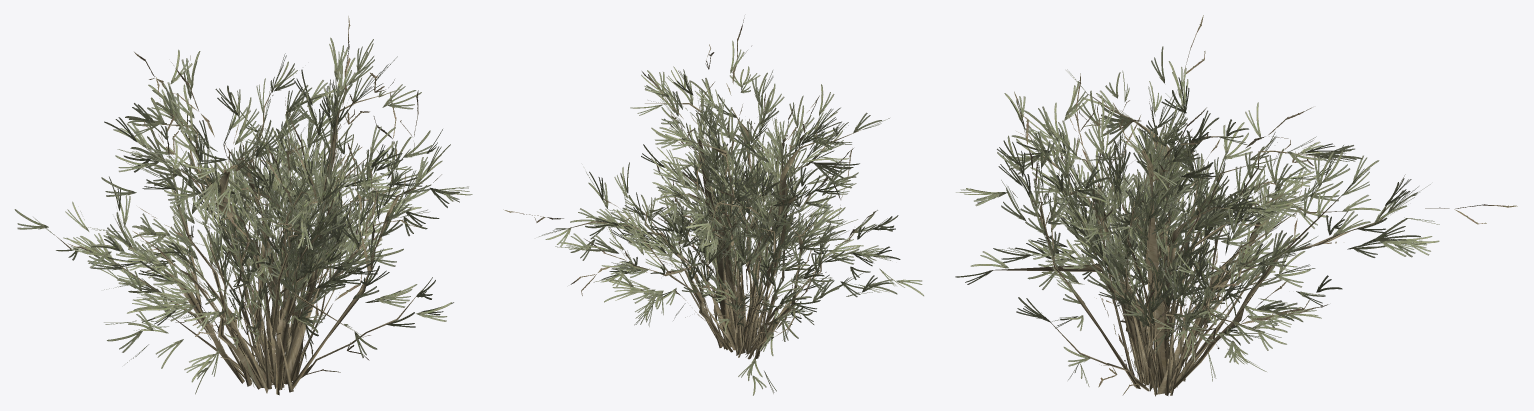
Rendered from rooibos.glb.
3 renders of one model, left to right at view 1: azimuth 30°, elevation 25°; view 2: azimuth 150°, elevation 25°; view 3: azimuth 270°, elevation 25°, orthographic. The views are drawn at different scales.
Parts seen in each view (by area): view 1: wild_rooibos_bush_a, wild_rooibos_bush_b, wild_rooibos_bush_c, wild_rooibos_bush_d, wild_rooibos_bush_e; view 2: wild_rooibos_bush_a, wild_rooibos_bush_b, wild_rooibos_bush_c, wild_rooibos_bush_d, wild_rooibos_bush_e; view 3: wild_rooibos_bush_a, wild_rooibos_bush_b, wild_rooibos_bush_c, wild_rooibos_bush_d, wild_rooibos_bush_e.
Boxes of the visible parts, x1,y1,x2,y2 form: wild_rooibos_bush_a: [14, 16, 472, 395]; wild_rooibos_bush_b: [104, 62, 453, 389]; wild_rooibos_bush_c: [141, 139, 382, 393]; wild_rooibos_bush_d: [215, 94, 381, 389]; wild_rooibos_bush_e: [227, 202, 357, 385]; wild_rooibos_bush_a: [503, 18, 923, 359]; wild_rooibos_bush_b: [588, 84, 870, 395]; wild_rooibos_bush_c: [598, 102, 856, 357]; wild_rooibos_bush_d: [641, 129, 831, 353]; wild_rooibos_bush_e: [706, 175, 825, 338]; wild_rooibos_bush_a: [955, 61, 1517, 396]; wild_rooibos_bush_b: [1016, 15, 1318, 395]; wild_rooibos_bush_c: [1007, 90, 1315, 395]; wild_rooibos_bush_d: [1051, 140, 1307, 394]; wild_rooibos_bush_e: [1078, 198, 1177, 387].
Size of the model in its own units: 0.6612 by 0.5437 by 0.8388.
1 material, 1 textured.
